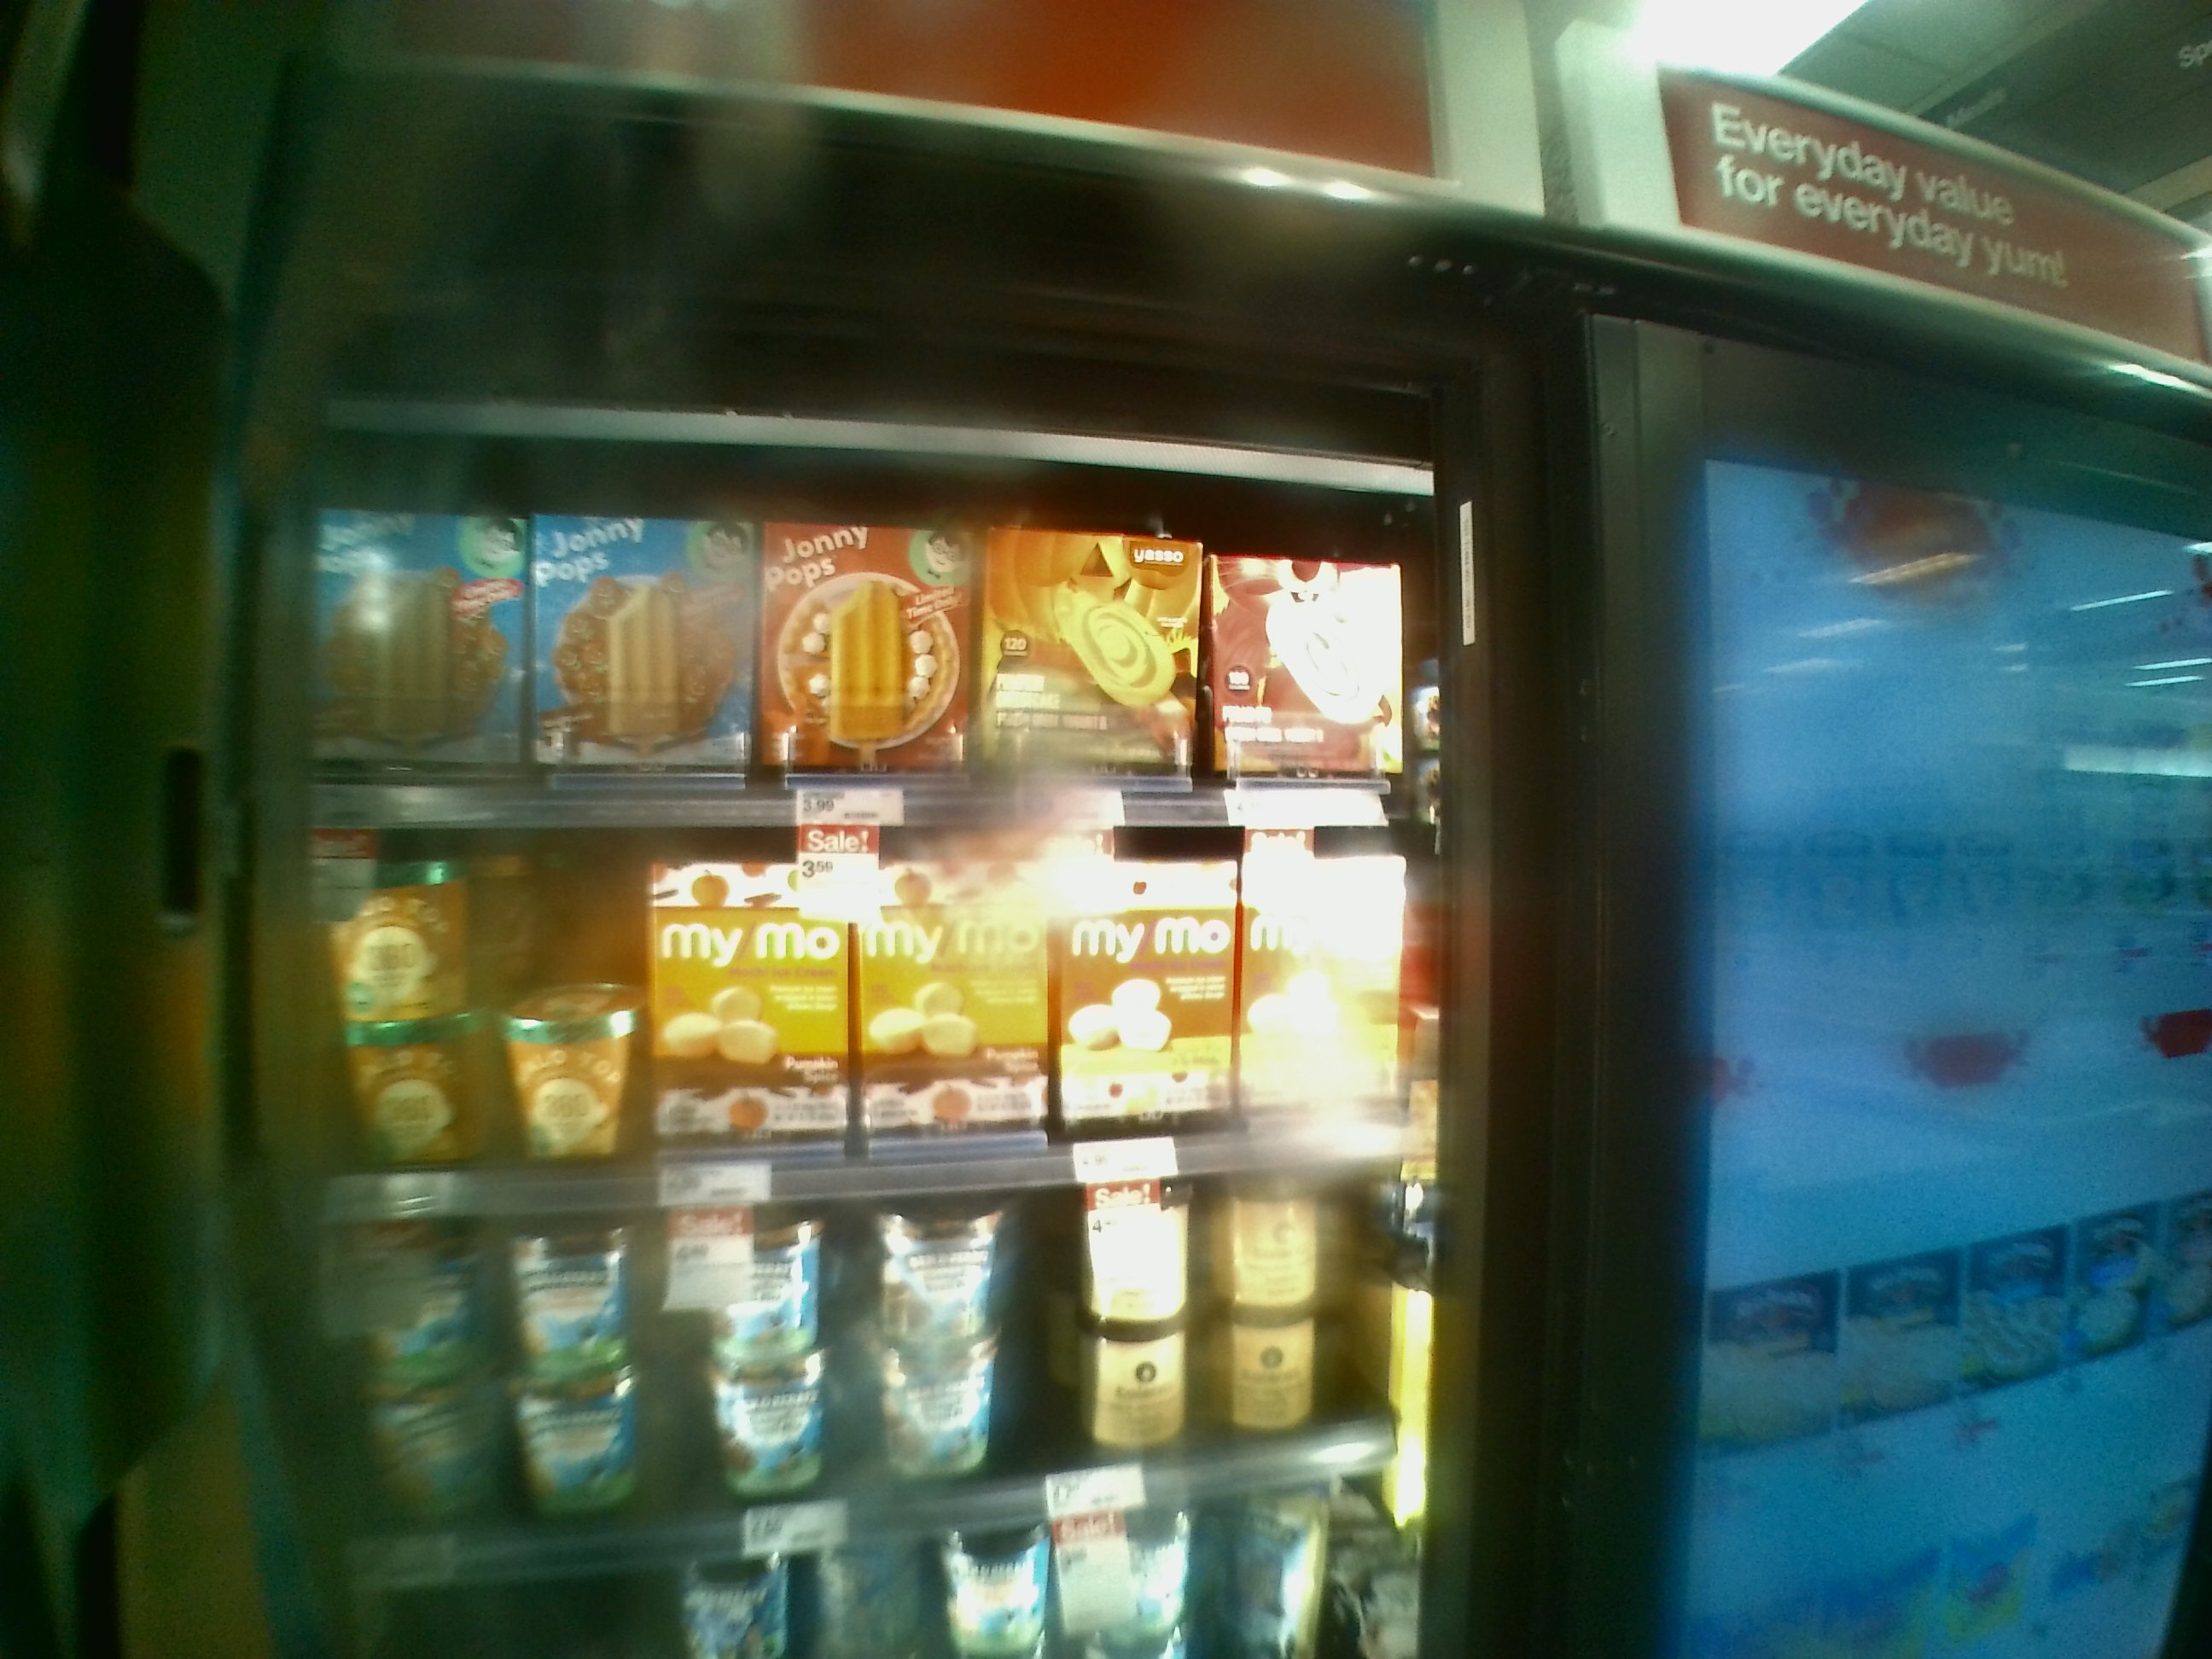shelf: (273, 448, 1437, 843), (265, 823, 1432, 1185), (284, 1195, 1416, 1565)
